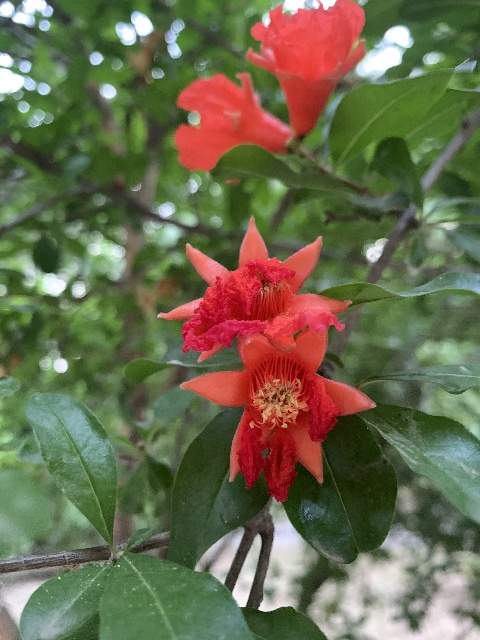flower: (178, 329, 375, 501), (157, 214, 352, 365), (245, 0, 366, 136), (173, 71, 294, 175)
